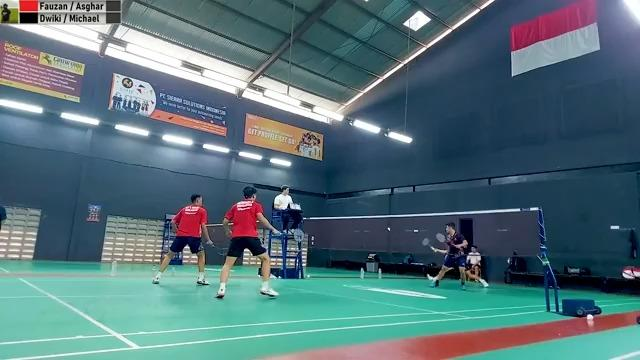Shuttlecock: (384, 224, 392, 233)
